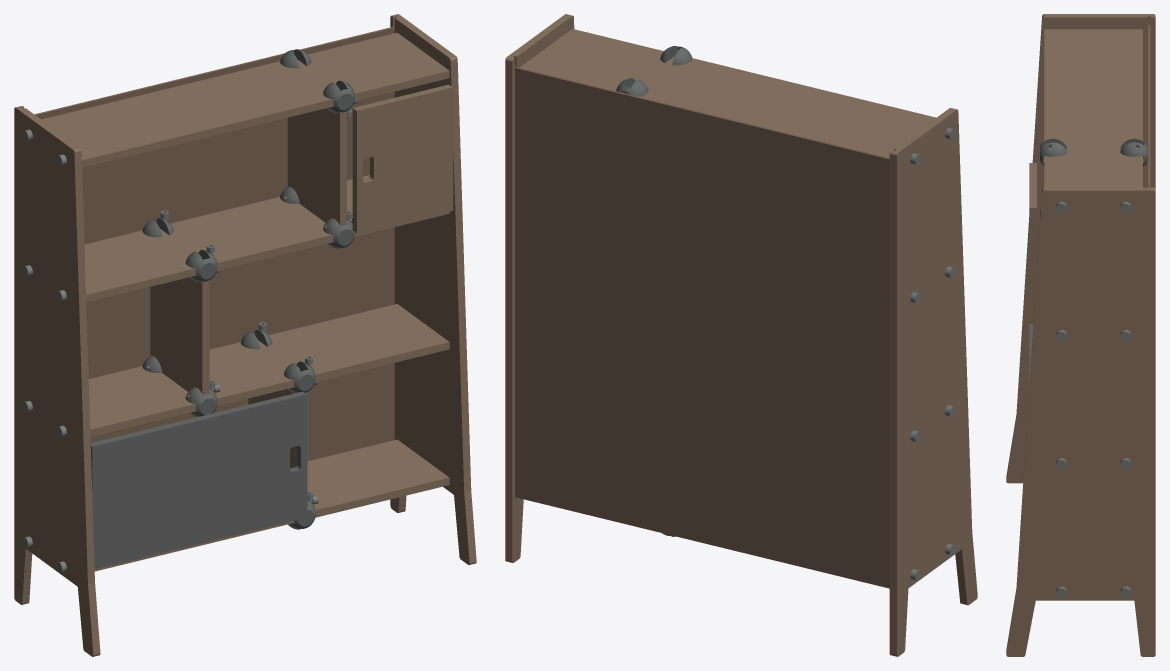
The model's file is assembled.glb.
3 views of the same model, side by side, from view 1: azimuth 30°, elevation 25°; view 2: azimuth 150°, elevation 25°; view 3: azimuth 270°, elevation 25° (orthographic). The views are drawn at different scales.
Parts seen in each view (by area): view 1: back-panel, frame-left, door-0, frame-right, shelf-3, shelf-1, shelf-2, door-1, shelf-0, partition-1, partition-2, node-x700-l3-front (+3 smaller); view 2: back-panel, frame-left, shelf-3, frame-right; view 3: frame-right, shelf-3, frame-left, door-1, back-panel, node-x700-l3-rear, node-x700-l3-front.
Part boxes in pixels (left/top/right/bottom): back-panel: left=34, top=26, right=394, bottom=460; frame-left: left=14, top=106, right=100, bottom=656; door-0: left=90, top=391, right=307, bottom=569; frame-right: left=390, top=14, right=476, bottom=564; shelf-3: left=41, top=32, right=449, bottom=167; shelf-1: left=88, top=304, right=449, bottom=436; shelf-2: left=84, top=175, right=449, bottom=302; door-1: left=352, top=84, right=453, bottom=233; shelf-0: left=94, top=439, right=449, bottom=571; partition-1: left=150, top=277, right=209, bottom=395; partition-2: left=287, top=108, right=346, bottom=226; node-x700-l3-front: left=323, top=80, right=354, bottom=113; back-panel: left=515, top=66, right=889, bottom=588; frame-left: left=889, top=108, right=977, bottom=656; shelf-3: left=520, top=29, right=935, bottom=157; frame-right: left=505, top=14, right=574, bottom=562; frame-right: left=1006, top=187, right=1155, bottom=656; shelf-3: left=1044, top=29, right=1142, bottom=187; frame-left: left=1006, top=14, right=1155, bottom=483; door-1: left=1029, top=163, right=1036, bottom=323; back-panel: left=1148, top=25, right=1150, bottom=188; node-x700-l3-rear: left=1120, top=138, right=1147, bottom=166; node-x700-l3-front: left=1040, top=138, right=1066, bottom=166.
Size of the model in its own units: 1 by 1.2 by 0.349.
